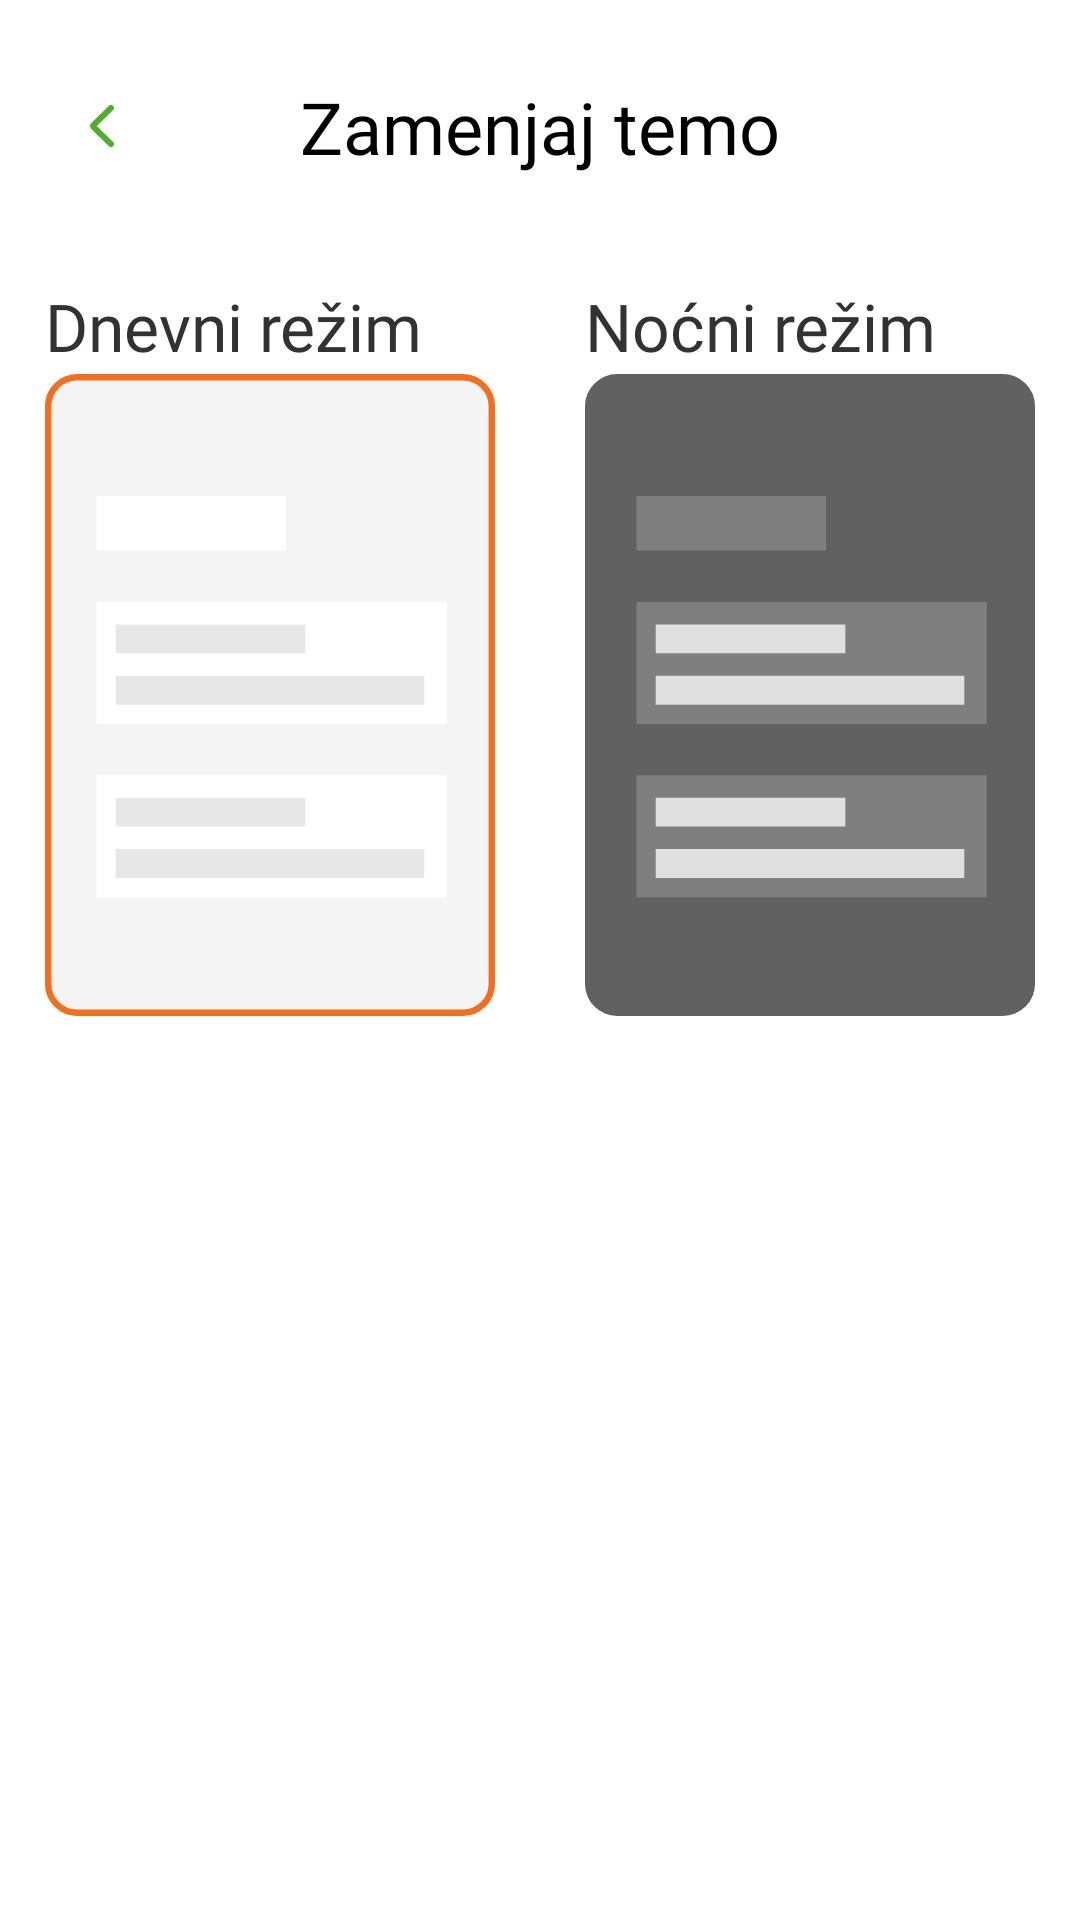

Icon bounding boxes for this 1080 × 1920 phone screenshot, format [x1,y1,x2,y2]:
back: [90,105,114,147]
